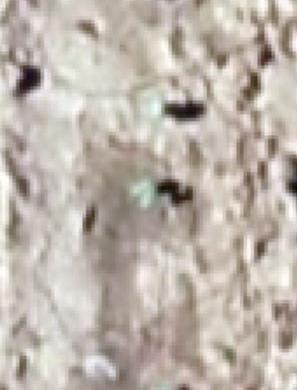cotton: (131, 175, 155, 206), (148, 92, 165, 119)
